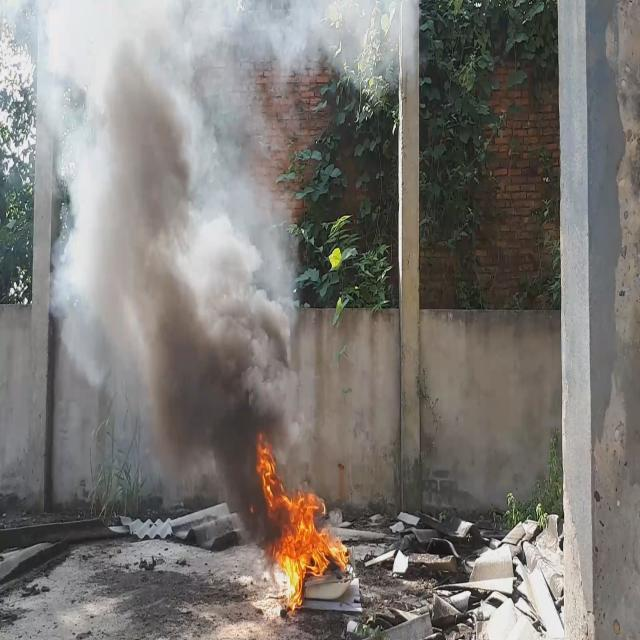Fire: (252, 423, 356, 606)
Smoke: (0, 0, 418, 552)
